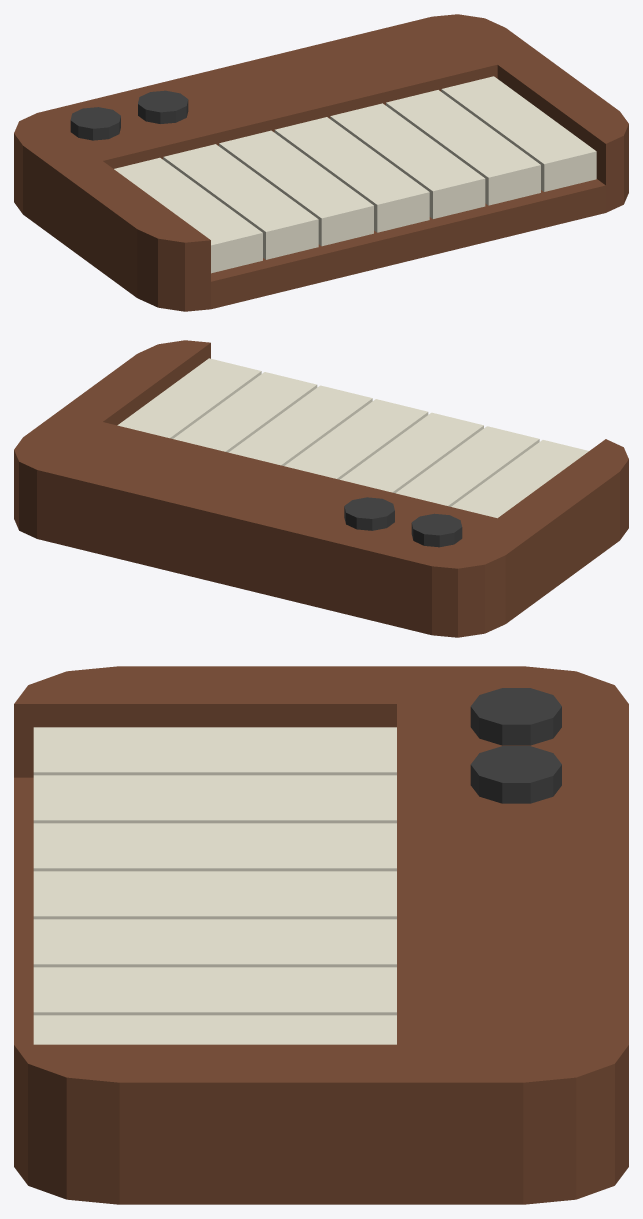
File: keyboard.fbx
3 views of the same model, one above another, from view 1: azimuth 30°, elevation 25°; view 2: azimuth 150°, elevation 25°; view 3: azimuth 270°, elevation 25° (orthographic). The views are drawn at different scales.
Visible parts, largest first — view 1: keyboard, keys, knobs; view 2: keyboard, keys, knobs; view 3: keyboard, keys, knobs.
Boxes of the visible parts, <box> form: keyboard: <box>14,14,628,311</box>; keys: <box>114,76,596,273</box>; knobs: <box>70,90,188,140</box>; keyboard: <box>14,340,628,637</box>; keys: <box>117,358,588,518</box>; knobs: <box>344,497,462,547</box>; keyboard: <box>14,666,628,1204</box>; keys: <box>33,727,396,1044</box>; knobs: <box>470,688,561,803</box>.
Size of the model in its own units: 20 by 3.2 by 12.48.
